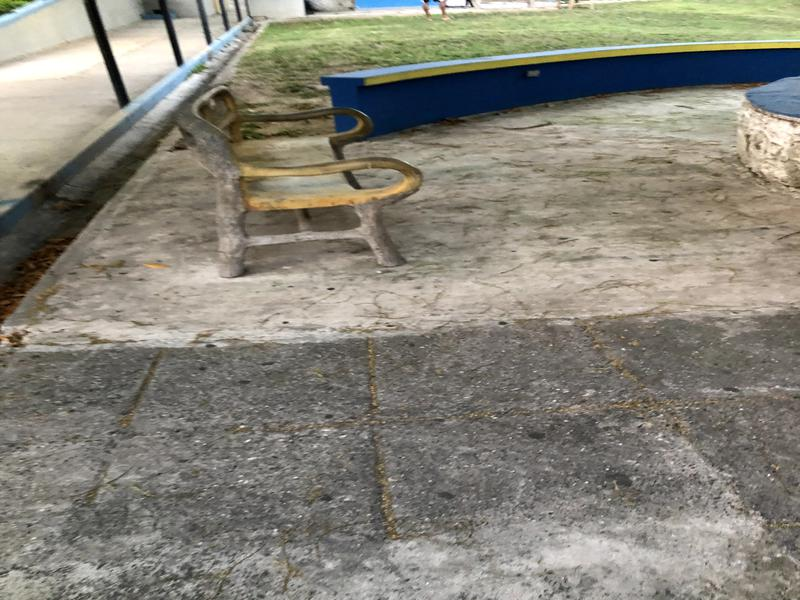18.0050864_-76.7496363_bench: (167, 73, 424, 263)
